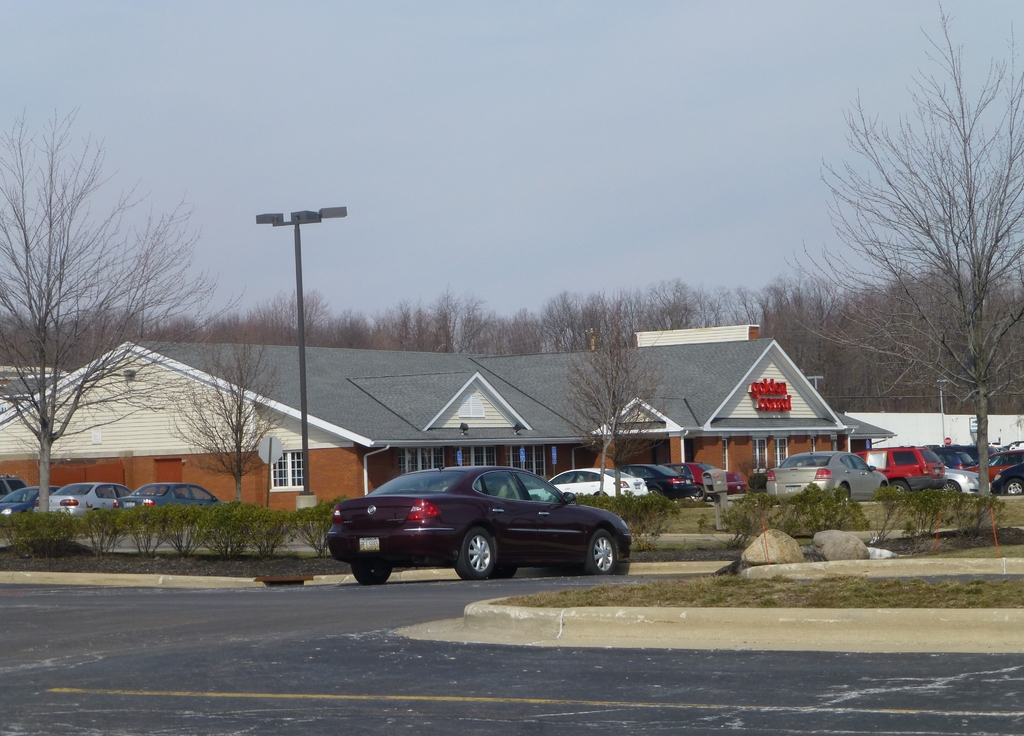Car: (323, 442, 1023, 577), (33, 480, 133, 514), (111, 478, 218, 506), (0, 484, 62, 514), (0, 474, 22, 497)
